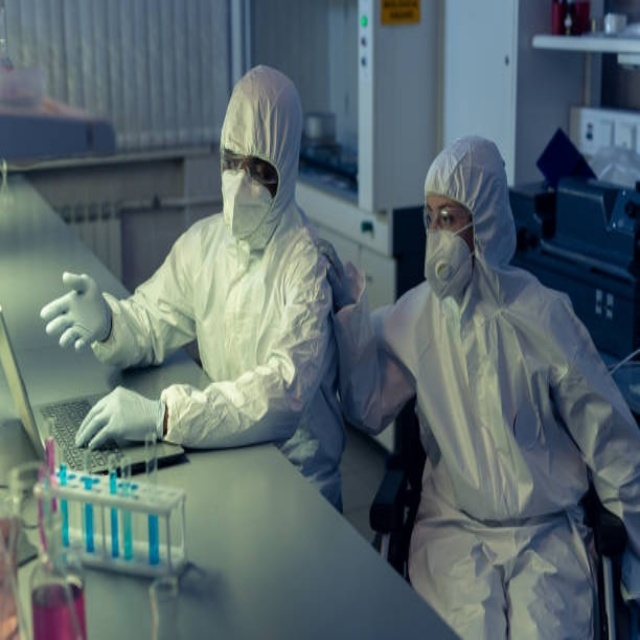Gafas: (223, 152, 278, 192), (422, 204, 475, 235)
Guantes: (40, 268, 110, 358), (76, 381, 167, 450)
Mascara: (221, 168, 277, 244), (425, 224, 474, 300)
